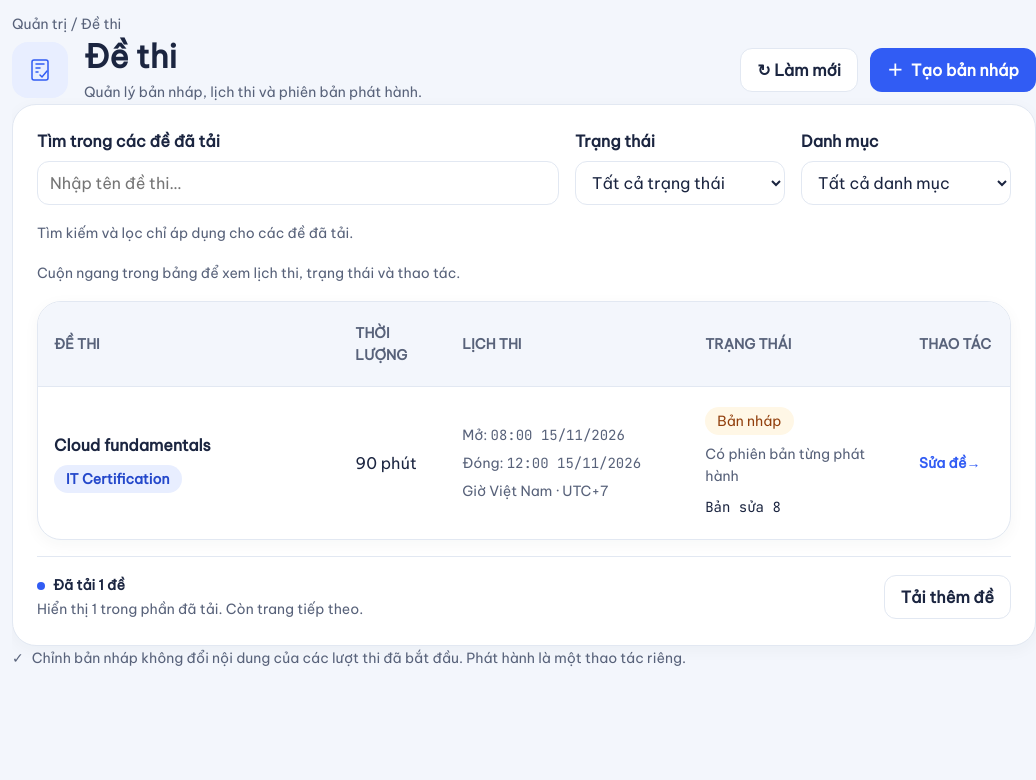
Test case: filters only loaded rows, keeps previous publication provenance and preserves cursor loading
This screenshot has width=1036, height=780.
Expected: the link "Cloud fundamentals" is shown, top-left (54, 435), bottom-right (211, 455)
Expected: the text "Có phiên bản từng phát hành" is shown, top-left (705, 443), bottom-right (887, 487)
Type "absent" into the search field labelled "Tìm trong các đề đã tải" at (298, 183), box top-left (37, 161), bottom-right (559, 205)
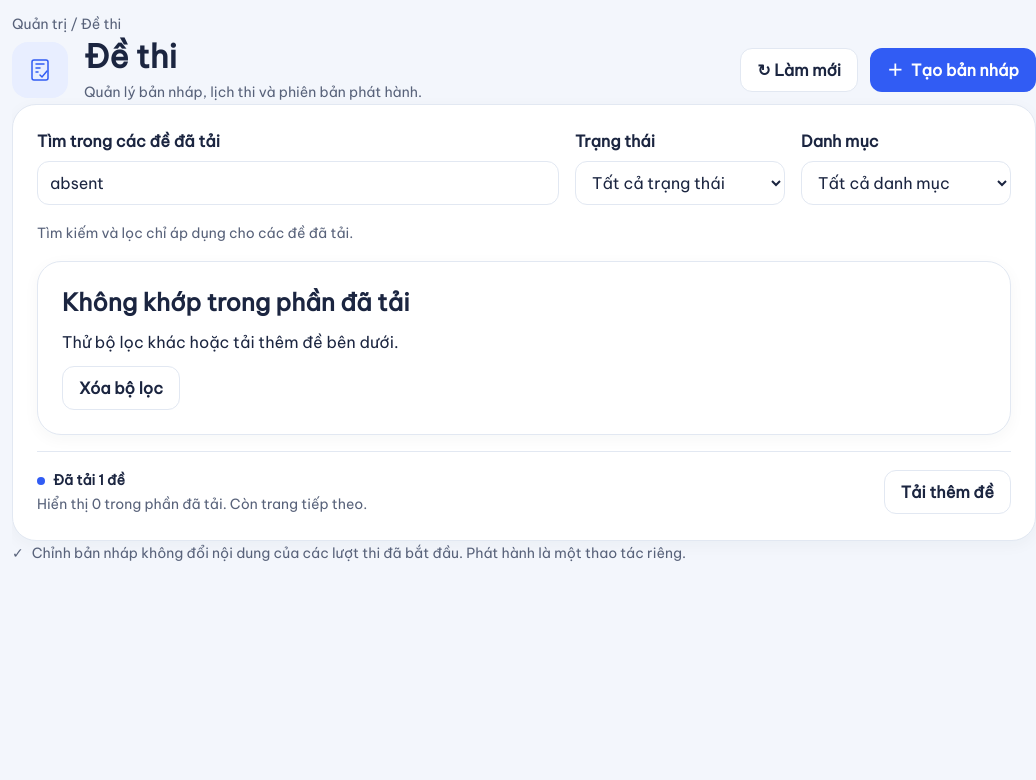
Expected: the text "Đã tải 1 đề" is shown, top-left (53, 471), bottom-right (125, 489)
Result: the link "Cloud fundamentals" is gone
Result: the heading "Không khớp trong phần đã tải" is shown at top-left (62, 287), bottom-right (410, 317)
Click the button "Tải thêm đề" at (947, 492), box top-left (884, 470), bottom-right (1011, 514)
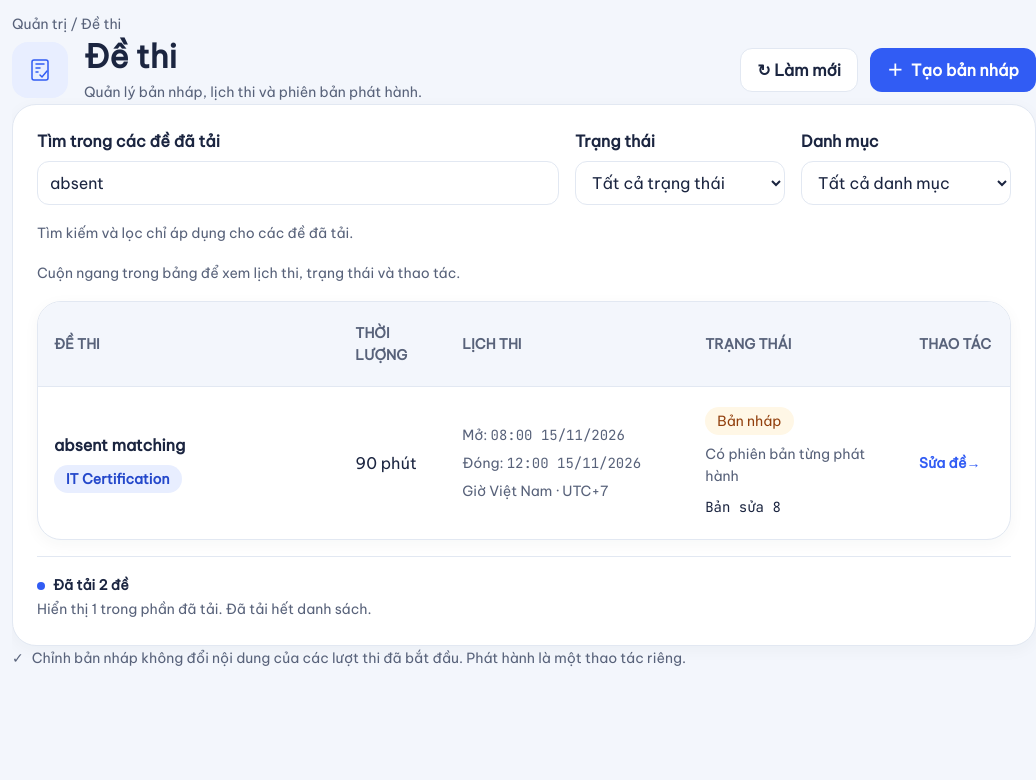
Result: the link "absent matching" is shown at top-left (54, 435), bottom-right (185, 455)
Result: the text "Đã tải 2 đề" is shown at top-left (53, 576), bottom-right (129, 594)
